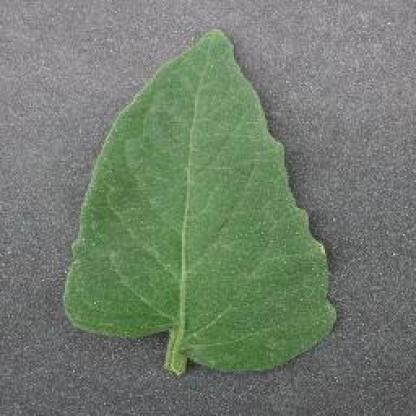good leaf: (62, 22, 358, 382)
